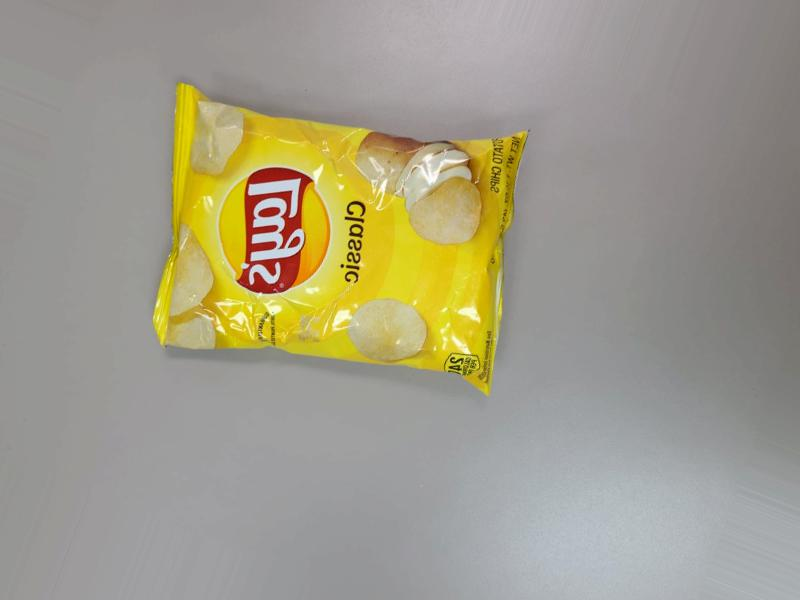lays: (135, 92, 530, 405)
